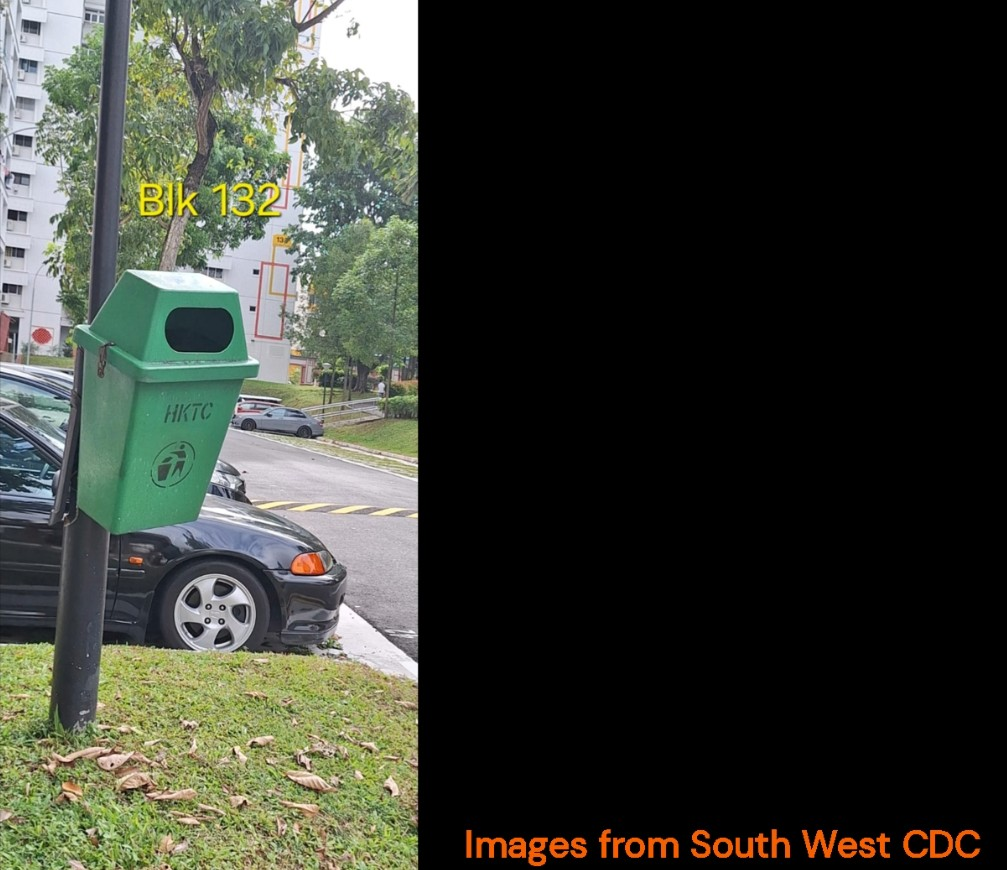bin_empty: (76, 271, 258, 534)
vehicle: (105, 494, 346, 651), (0, 399, 65, 627), (231, 407, 323, 437)
